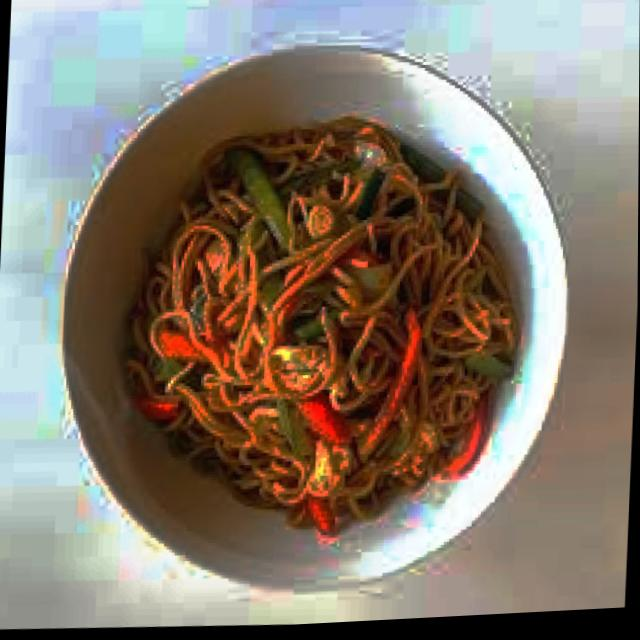Chow Mein: (122, 99, 525, 554)
